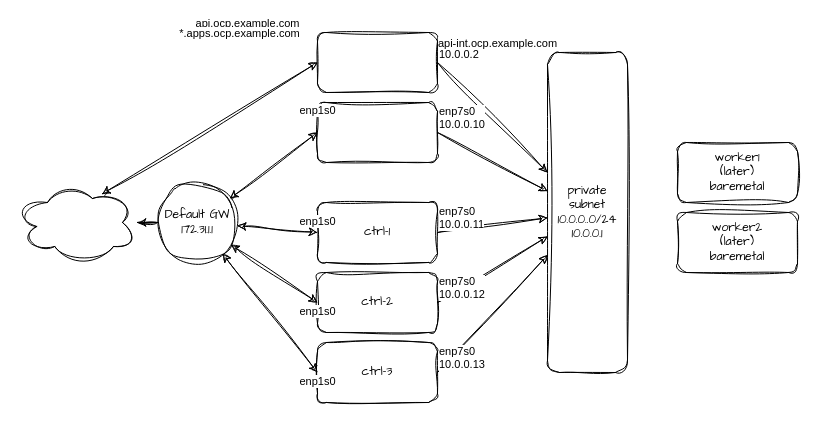
Some shapes in this 815 by 421 pixel diagram are drawn without their labels. Here are the shapes that lost their labels. From the top down, the box of each, then its label:
(316, 32, 438, 92): LB
(316, 102, 438, 162): Bastion
(16, 182, 138, 262): public internet
